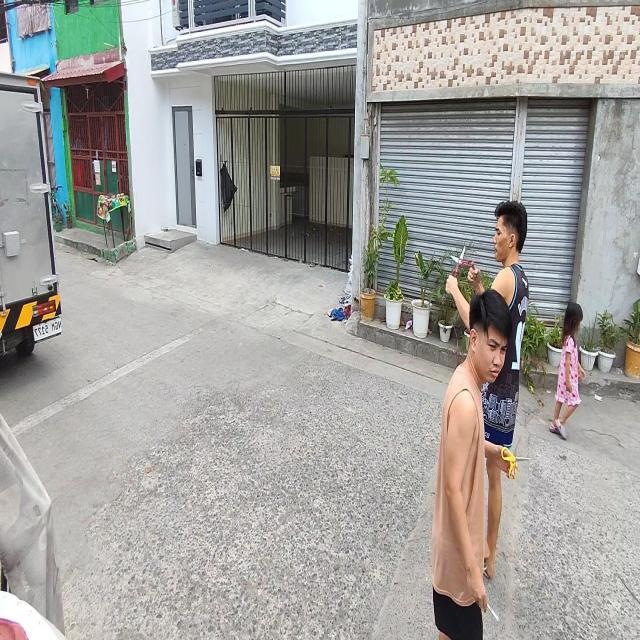scissor: (502, 437, 530, 480), (450, 245, 474, 276)
